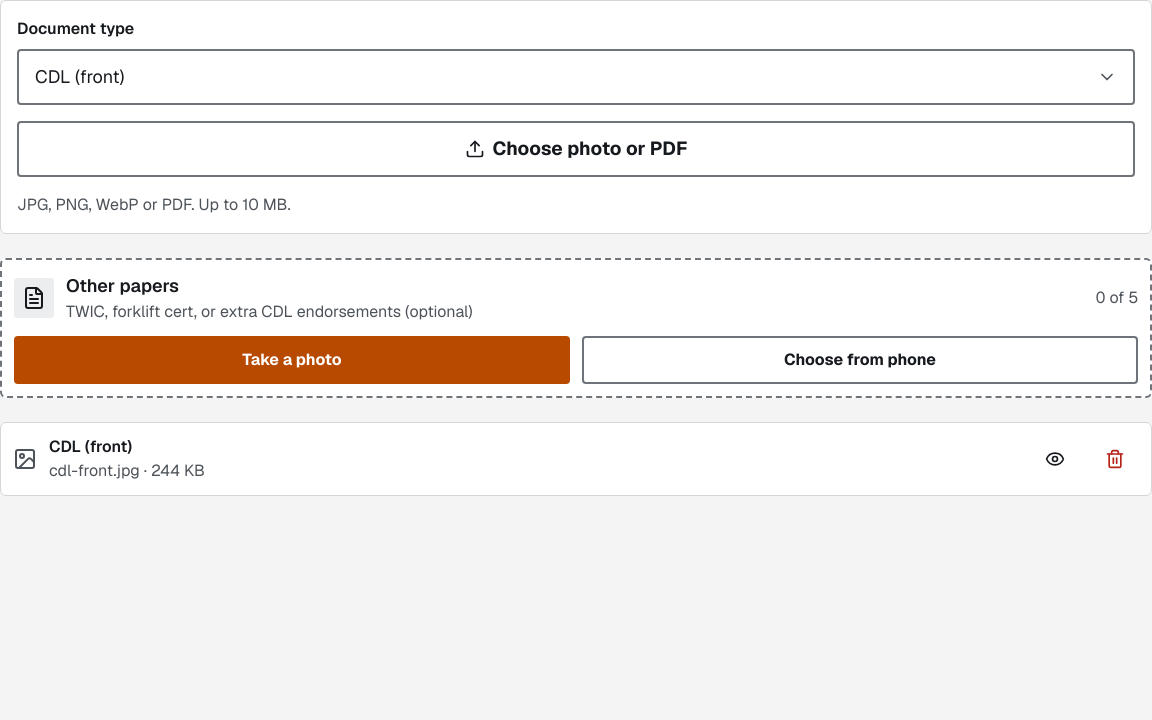
Test: DocumentUploader › delete › deletes after confirmation
Click the button named "Delete cdl-front.jpg" at (1115, 459), box [1091, 435, 1139, 483]
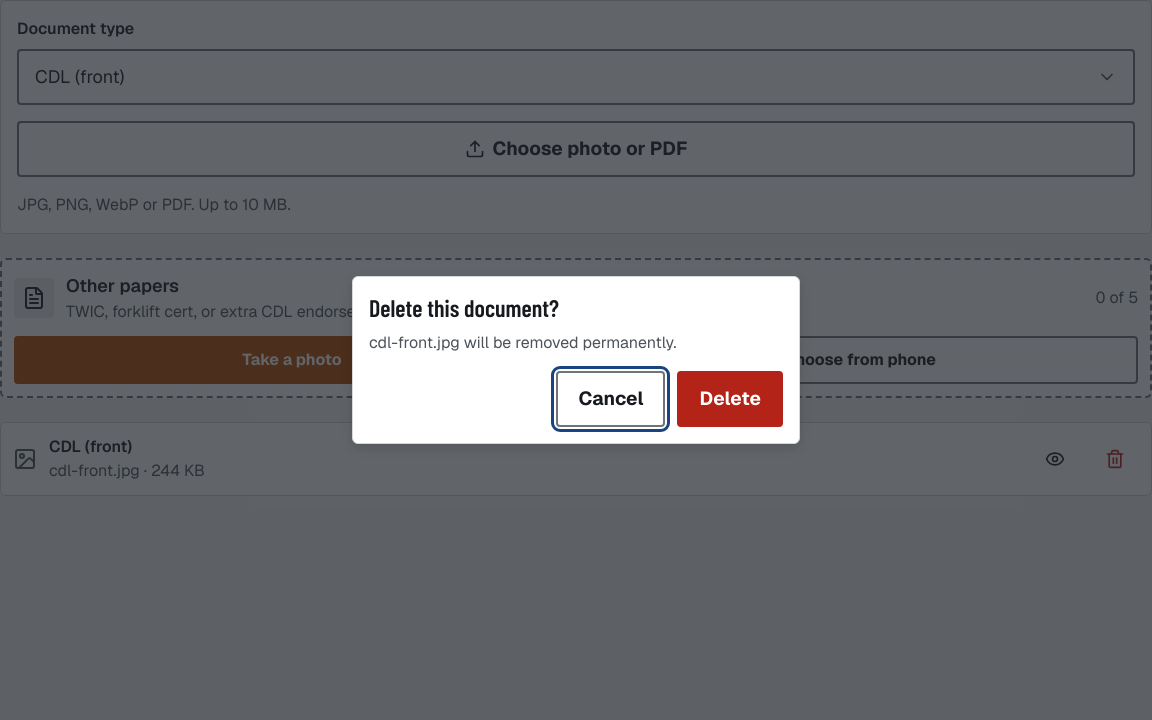
Click the button "Delete" at (730, 399), box [677, 371, 783, 427]
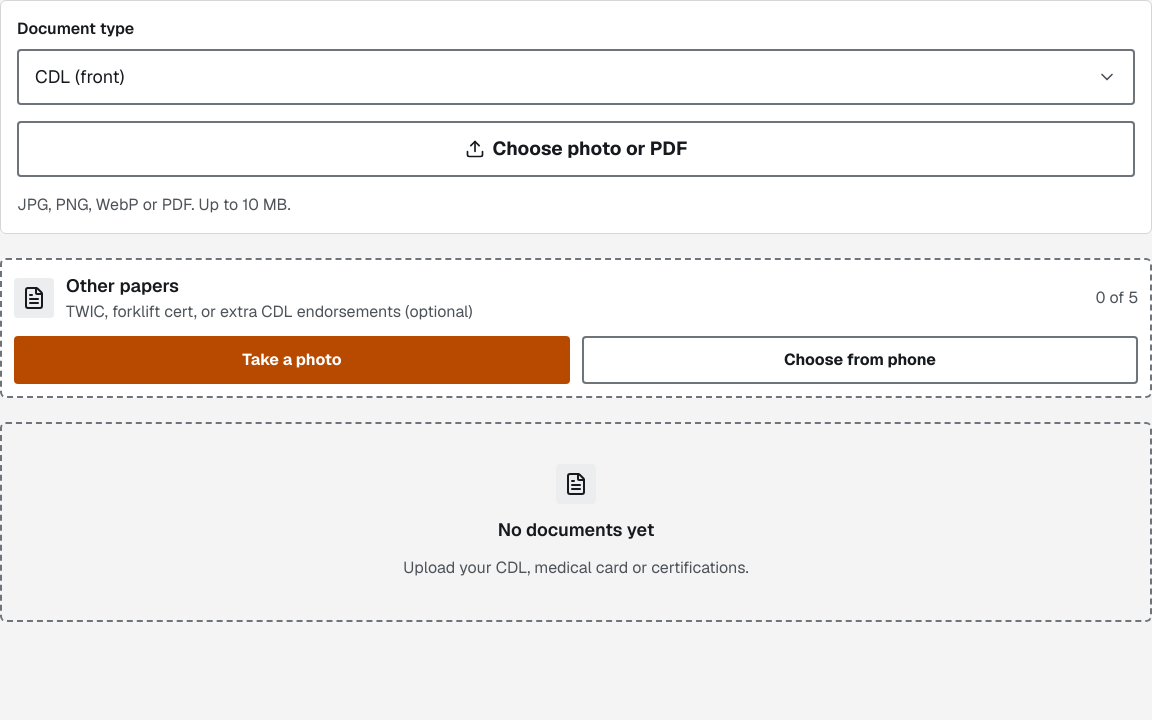
Expected: the heading "No documents yet" is shown, [498, 516, 654, 544]
